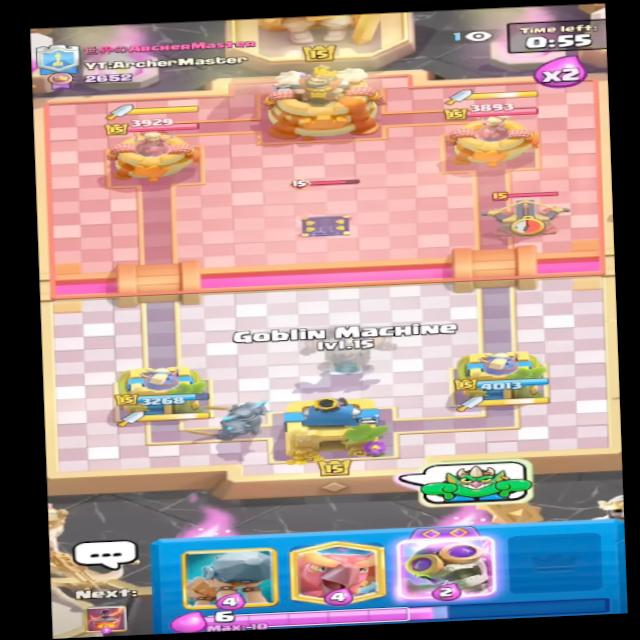evo-tesla-closed: (277, 173, 370, 241)
x-bow: (473, 184, 577, 244)
